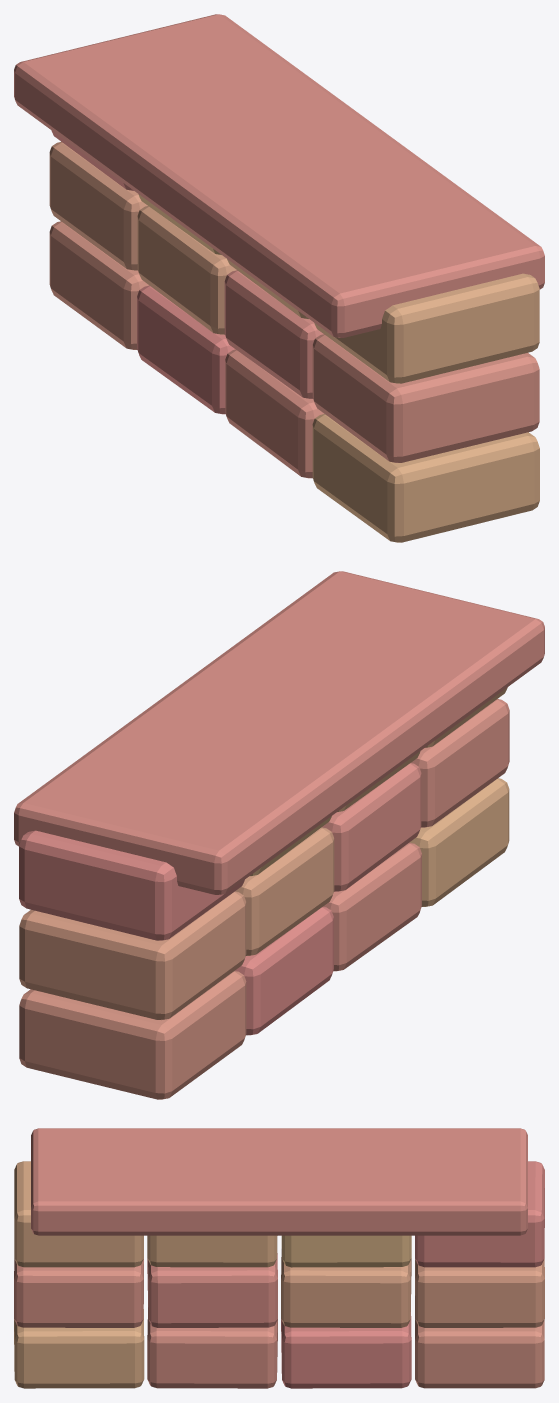
File: WC_RIVER_Bridge_Abutment_A.glb
3 views of the same model, one above another, from view 1: azimuth 30°, elevation 25°; view 2: azimuth 150°, elevation 25°; view 3: azimuth 270°, elevation 25° (orthographic). The views are drawn at different scales.
Visible parts, largest first — view 1: WC_RIVER_Bridge_Abutment_A_RenderMesh; view 2: WC_RIVER_Bridge_Abutment_A_RenderMesh; view 3: WC_RIVER_Bridge_Abutment_A_RenderMesh.
Boxes of the visible parts, bbox=[...] form: WC_RIVER_Bridge_Abutment_A_RenderMesh: bbox=[14, 14, 544, 542]; WC_RIVER_Bridge_Abutment_A_RenderMesh: bbox=[14, 571, 544, 1099]; WC_RIVER_Bridge_Abutment_A_RenderMesh: bbox=[14, 1128, 544, 1388].
Size of the model in its own units: 0.7 by 0.7975 by 1.99.
